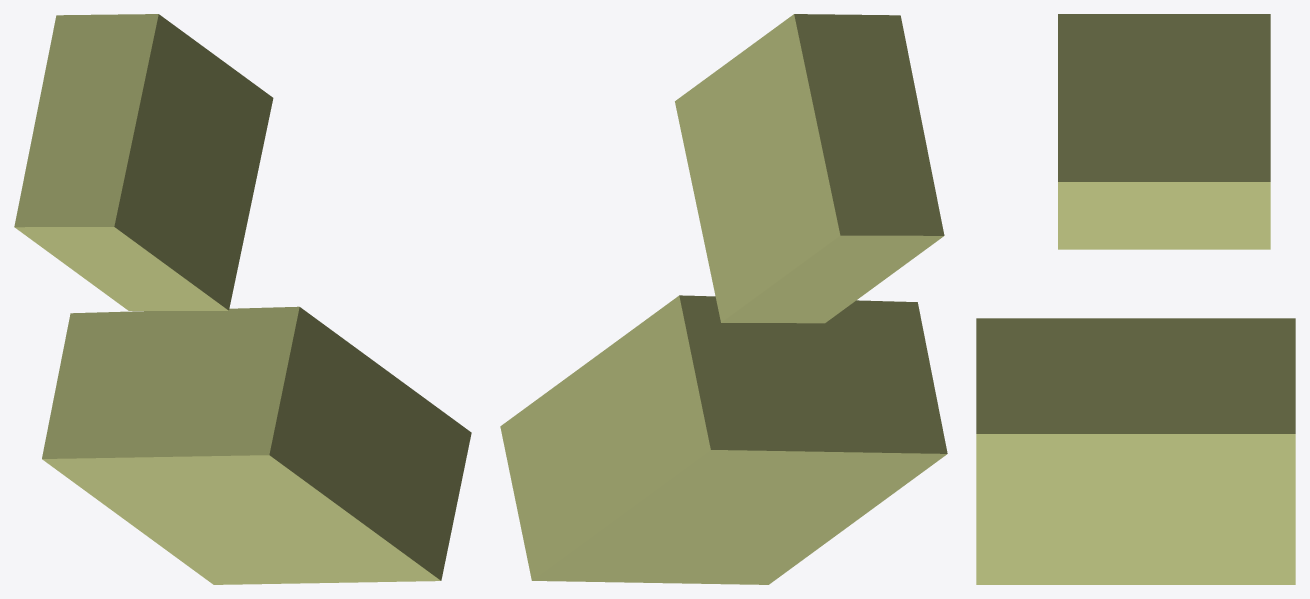
The picture shows the model from 3 angles, left to right: view 1: azimuth 30°, elevation 25°; view 2: azimuth 150°, elevation 25°; view 3: azimuth 270°, elevation 25°; orthographic projection. The views are drawn at different scales.
Visible parts, largest first — view 1: 0_1_0_0_1_3_1_2_1_3; view 2: 0_1_0_0_1_3_1_2_1_3; view 3: 0_1_0_0_1_3_1_2_1_3.
Part boxes in pixels (box(x1,y1,x2,y2)): 0_1_0_0_1_3_1_2_1_3: box(14, 14, 471, 584); 0_1_0_0_1_3_1_2_1_3: box(500, 14, 947, 584); 0_1_0_0_1_3_1_2_1_3: box(976, 14, 1295, 584).
Bounding box in the file's own units: 9.03 × 14.58 × 9.
